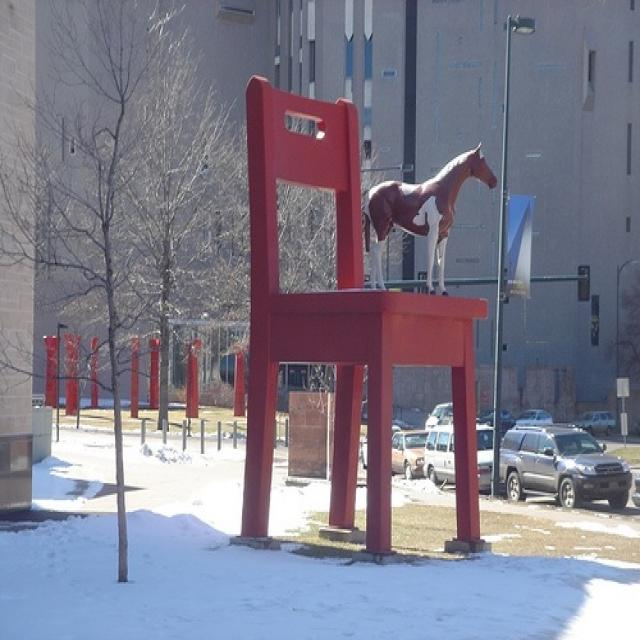car: (497, 422, 631, 508), (390, 428, 425, 476), (570, 408, 613, 435), (421, 401, 448, 428), (514, 408, 550, 423), (390, 414, 412, 434), (360, 399, 366, 422)
pole: (489, 14, 511, 498)
truck: (420, 420, 491, 493), (572, 408, 614, 435), (631, 471, 639, 507), (358, 432, 366, 466)
